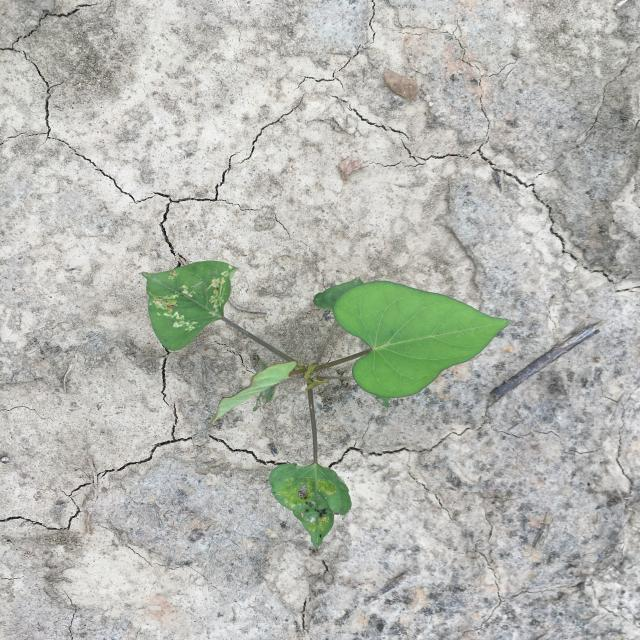MorningGlory: (141, 261, 510, 548)
